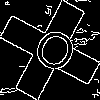O: (25, 25, 81, 84)
